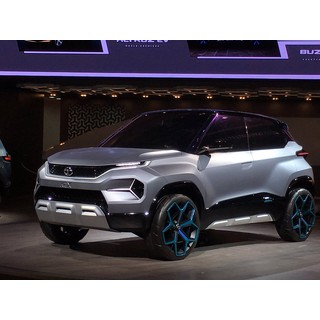car: (33, 110, 314, 261)
